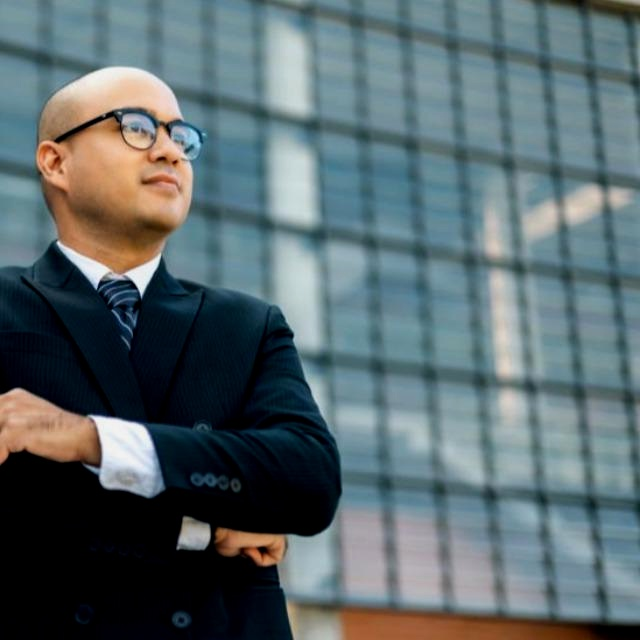Sin_Casco_Mascarrilla: (37, 67, 202, 249)
Sin_Chaleco: (0, 252, 295, 637)
